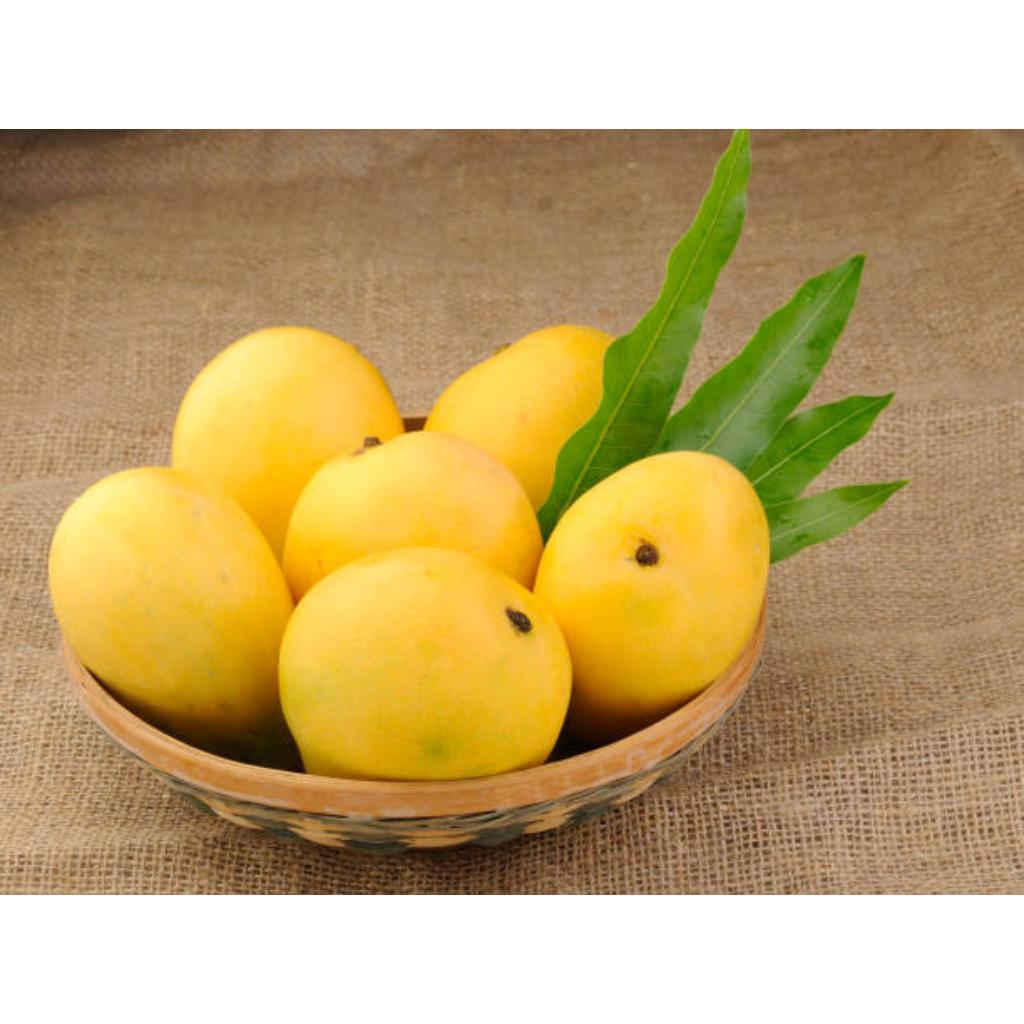mango: (534, 451, 770, 744), (48, 469, 294, 748), (278, 547, 572, 779), (172, 327, 404, 556), (282, 433, 542, 600), (424, 325, 614, 508)
